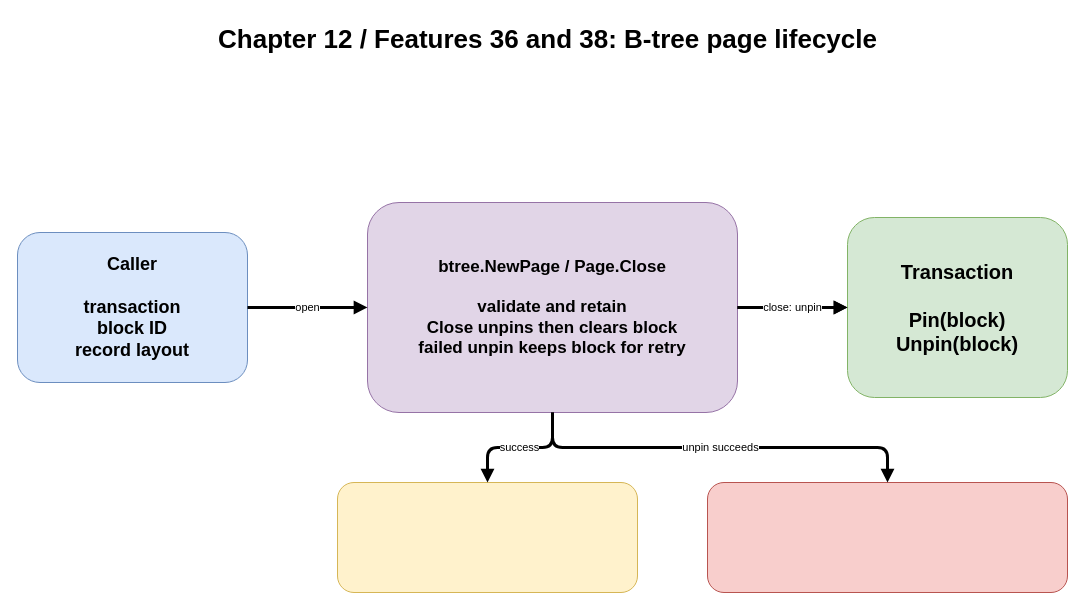
Image size: 1085x610. Some labels were removed from this diagram. Each missing label, with the box of its shape:
Closed state block identifier cleared repeated close is a no-op: (706, 482, 1068, 592)
Open state one pinned block layout retained: (336, 482, 638, 592)
